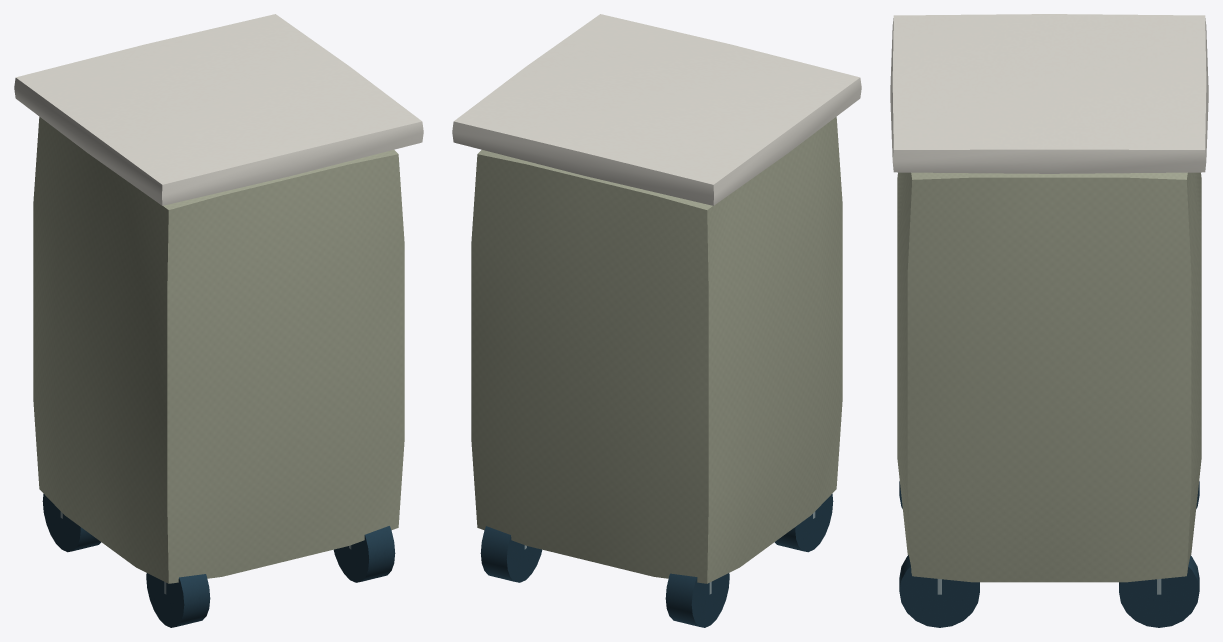
File: hamper.glb
3 views of the same model, side by side, from view 1: azimuth 30°, elevation 25°; view 2: azimuth 150°, elevation 25°; view 3: azimuth 270°, elevation 25° (orthographic). The views are drawn at different scales.
Visible parts, largest first — view 1: hamper; view 2: hamper; view 3: hamper.
Part boxes in pixels (left/top/right/bottom): hamper: left=14, top=14, right=423, bottom=627; hamper: left=452, top=14, right=861, bottom=627; hamper: left=890, top=14, right=1208, bottom=627.
Size of the model in its own units: 0.46 by 0.7695 by 0.45.
10 materials, 10 textured.
